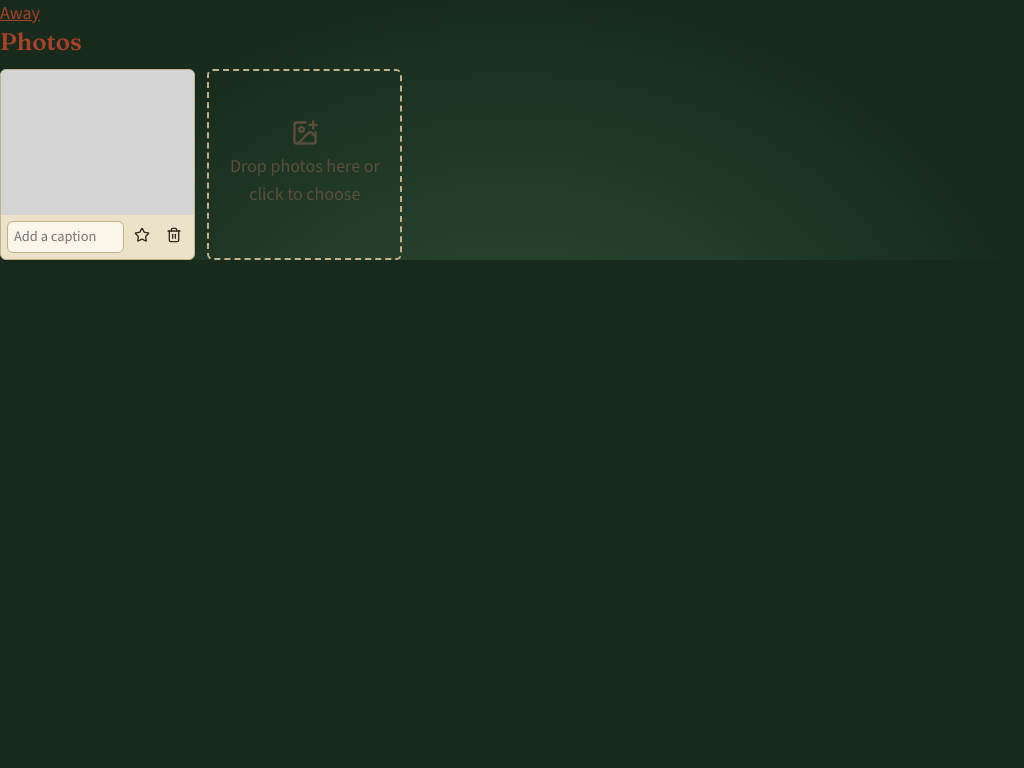
Test: PhotoGallery › a caption still being typed asks before leaving
Type "Half typed" into the field named "Caption for photo 1" at (66, 237), box [7, 221, 124, 253]
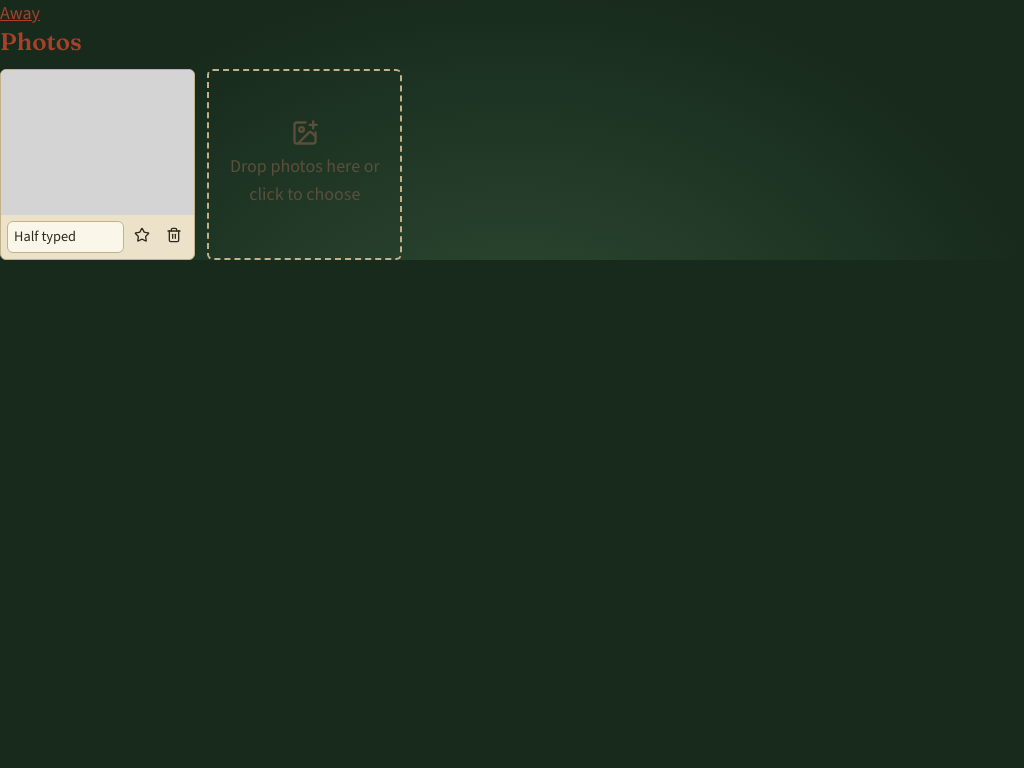
Click the link "Away" at (20, 13), box [0, 1, 40, 25]
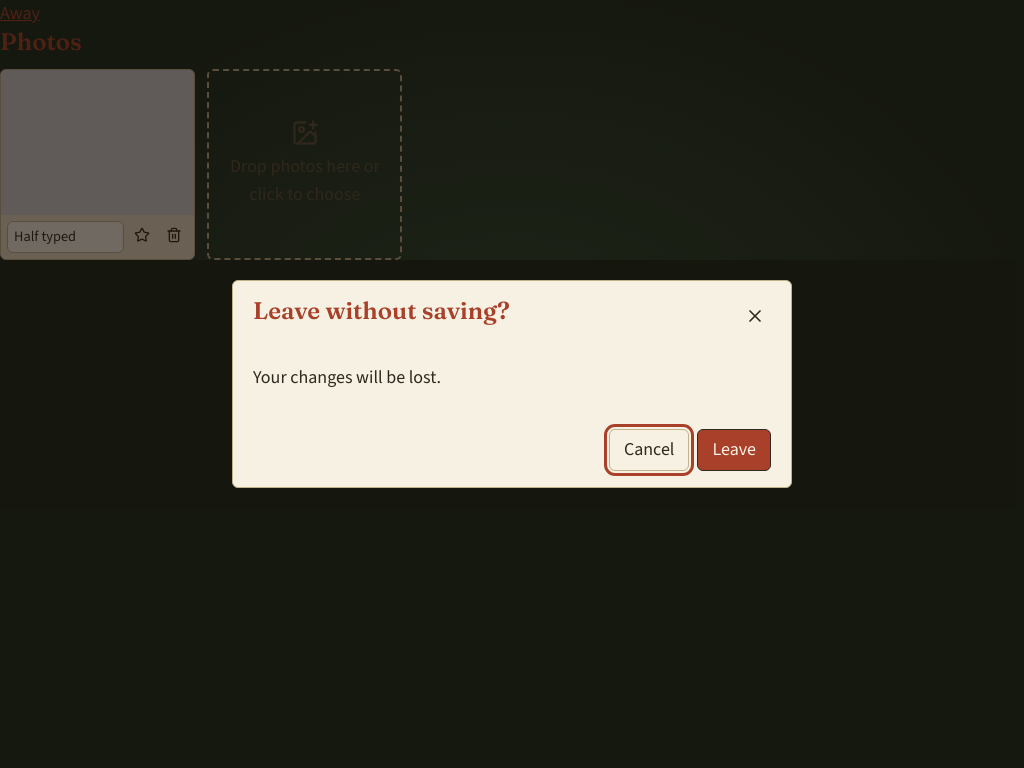
Check: the heading "Leave without saving?" is shown, box [253, 297, 510, 326]
